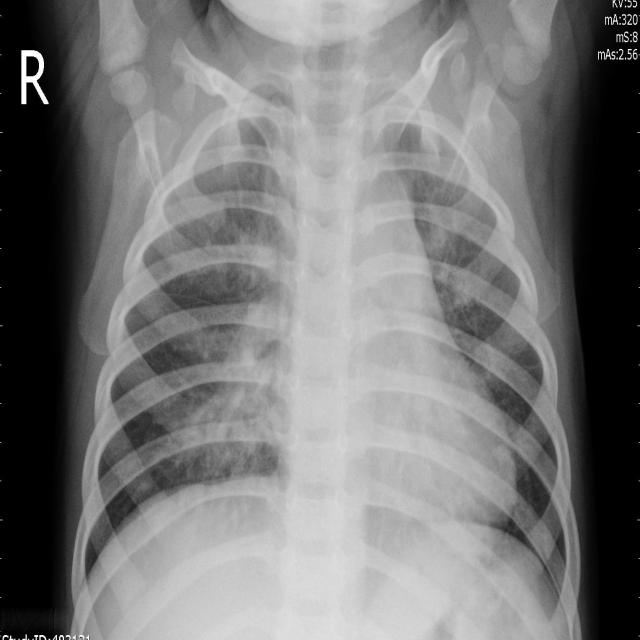low-pneumonia: (176, 280, 290, 490), (422, 151, 494, 323), (183, 87, 286, 205)
